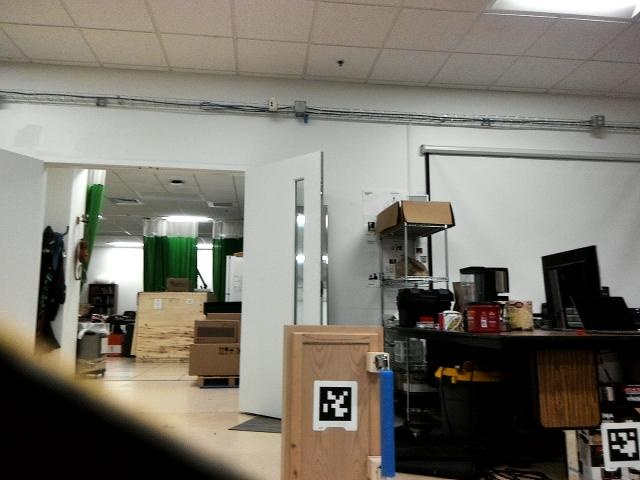noodle_handle: (374, 361, 399, 480)
